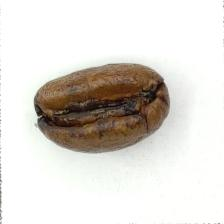NG: (44, 82, 161, 138)
